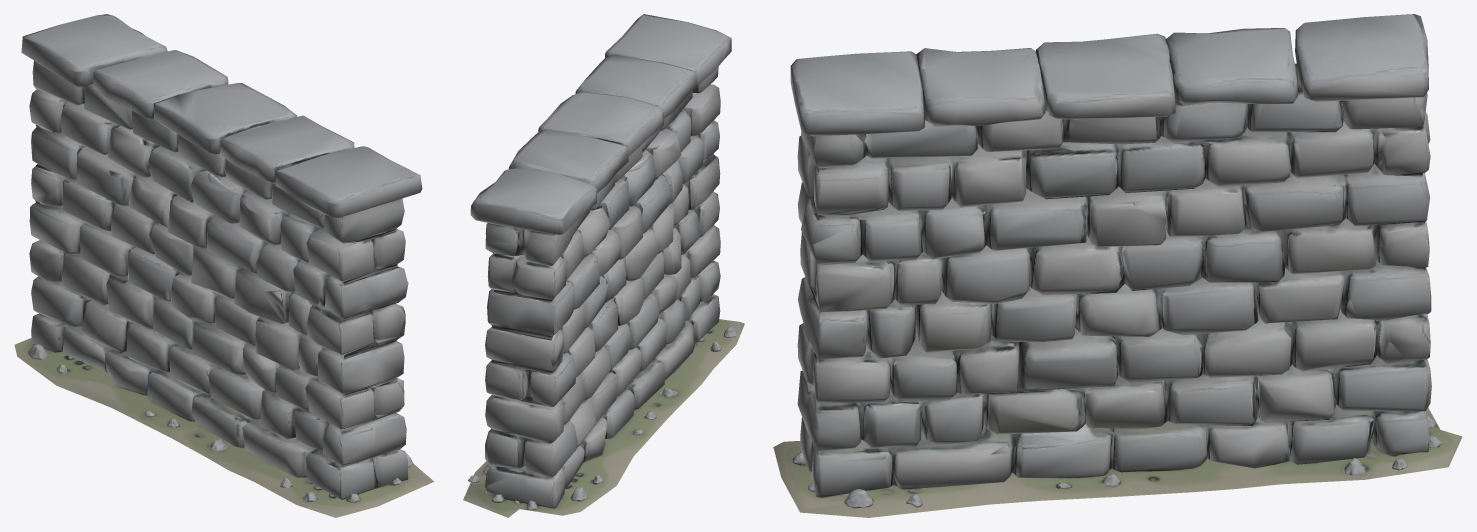
3 views of the same model, side by side, from view 1: azimuth 30°, elevation 25°; view 2: azimuth 150°, elevation 25°; view 3: azimuth 270°, elevation 25° (orthographic). The views are drawn at different scales.
Visible parts, largest first — view 1: tripo_node_8e53d5a5-9991-4196-ac2c-b635d6de8c9d; view 2: tripo_node_8e53d5a5-9991-4196-ac2c-b635d6de8c9d; view 3: tripo_node_8e53d5a5-9991-4196-ac2c-b635d6de8c9d.
Part boxes in pixels (x1,y1,x2,y2): tripo_node_8e53d5a5-9991-4196-ac2c-b635d6de8c9d: (14, 14, 434, 517); tripo_node_8e53d5a5-9991-4196-ac2c-b635d6de8c9d: (463, 14, 744, 517); tripo_node_8e53d5a5-9991-4196-ac2c-b635d6de8c9d: (773, 14, 1462, 517).
Bounding box in the file's own units: 0.7322 × 1.2 × 1.84.
Materials: 1 (1 with a texture image).
